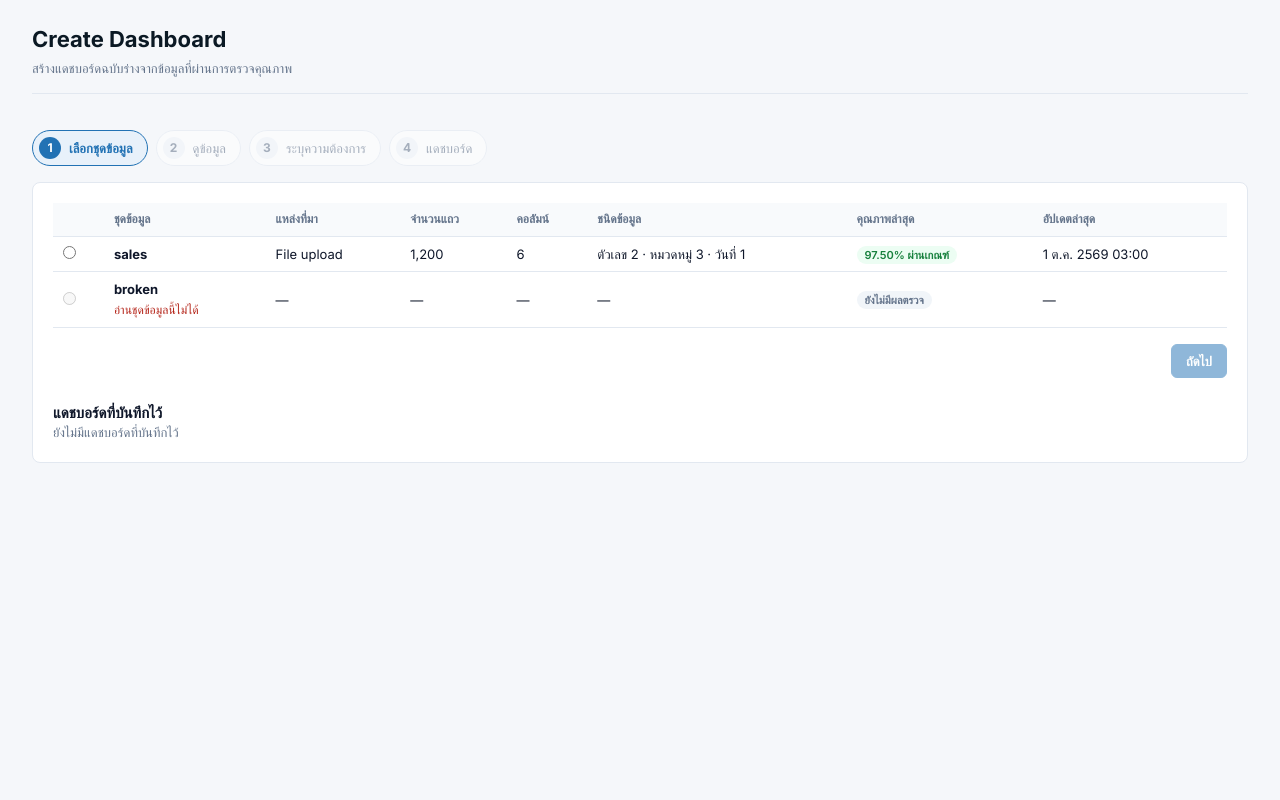
previews the chosen dataset before asking what to analyse
Click the radio button named "เลือก sales" at coordinates (70, 252), box [63,246,76,259]
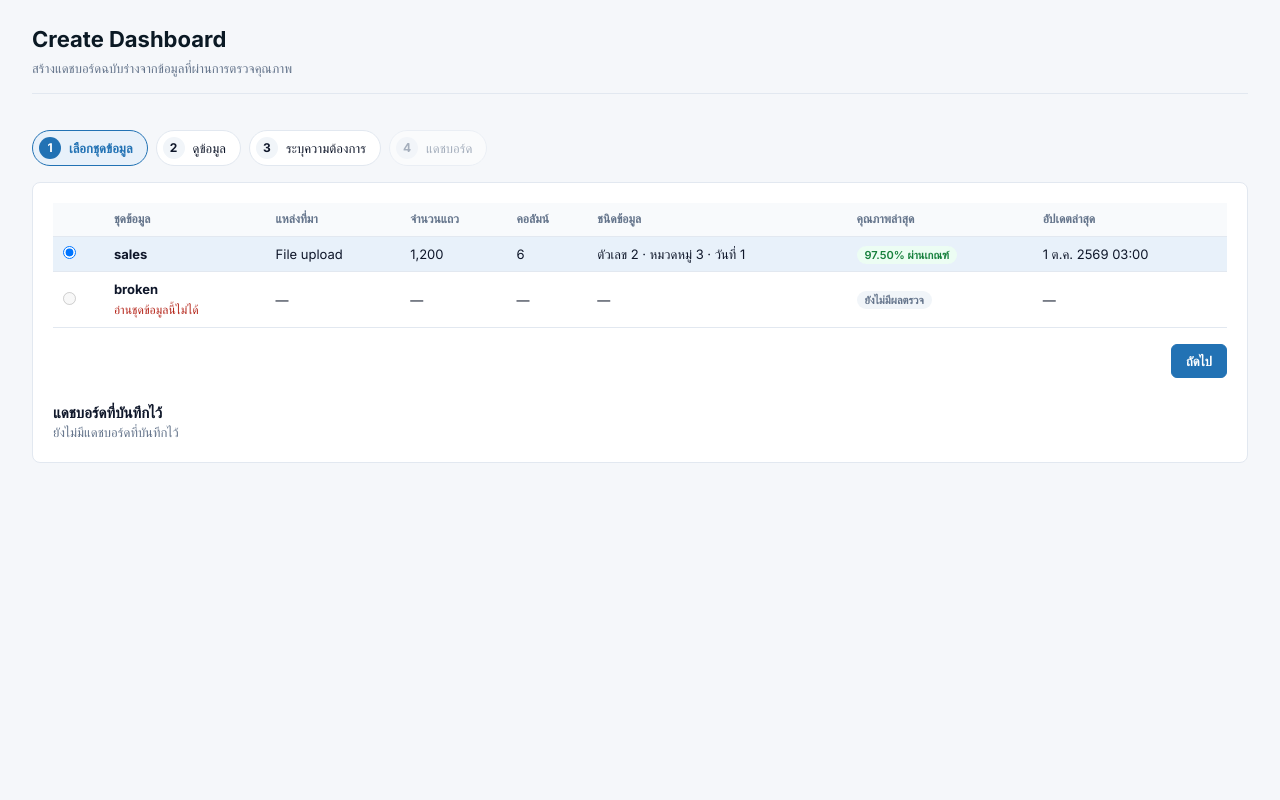
Click the button "ถัดไป" at coordinates (1199, 361), box [1171,344,1227,378]
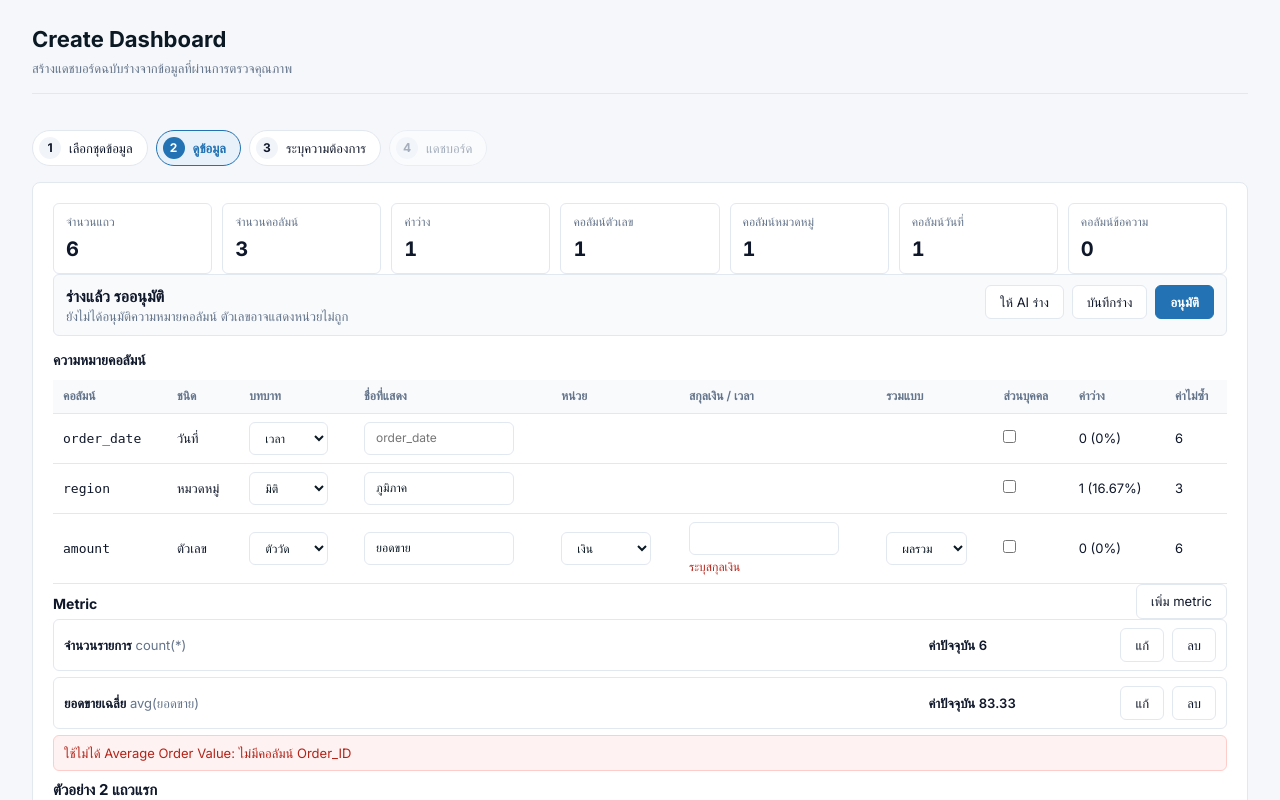
Now the text "คอลัมน์วันที่" is shown, box [912,214,964,229]
Now the text "1 (16.67%)" is shown, box [1069,463,1165,513]
Now the heading "ตัวอย่าง 2 แถวแรก" is shown, box [53,780,157,799]
